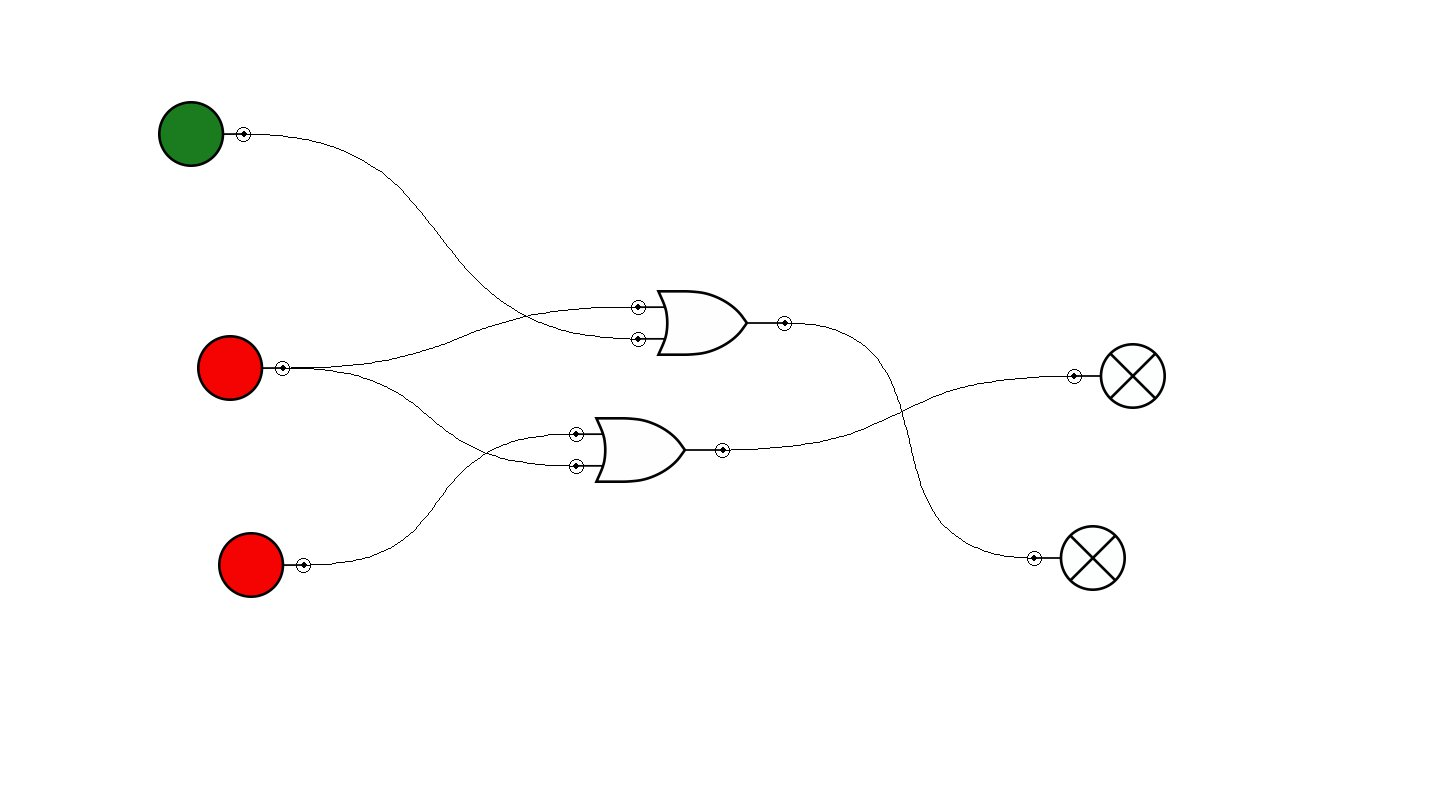bulb: (1027, 525, 1126, 591), (1067, 343, 1166, 409)
or: (569, 417, 730, 483), (631, 290, 792, 356)
switch_False: (197, 335, 290, 401), (218, 532, 311, 598)
switch_True: (158, 101, 251, 167)
